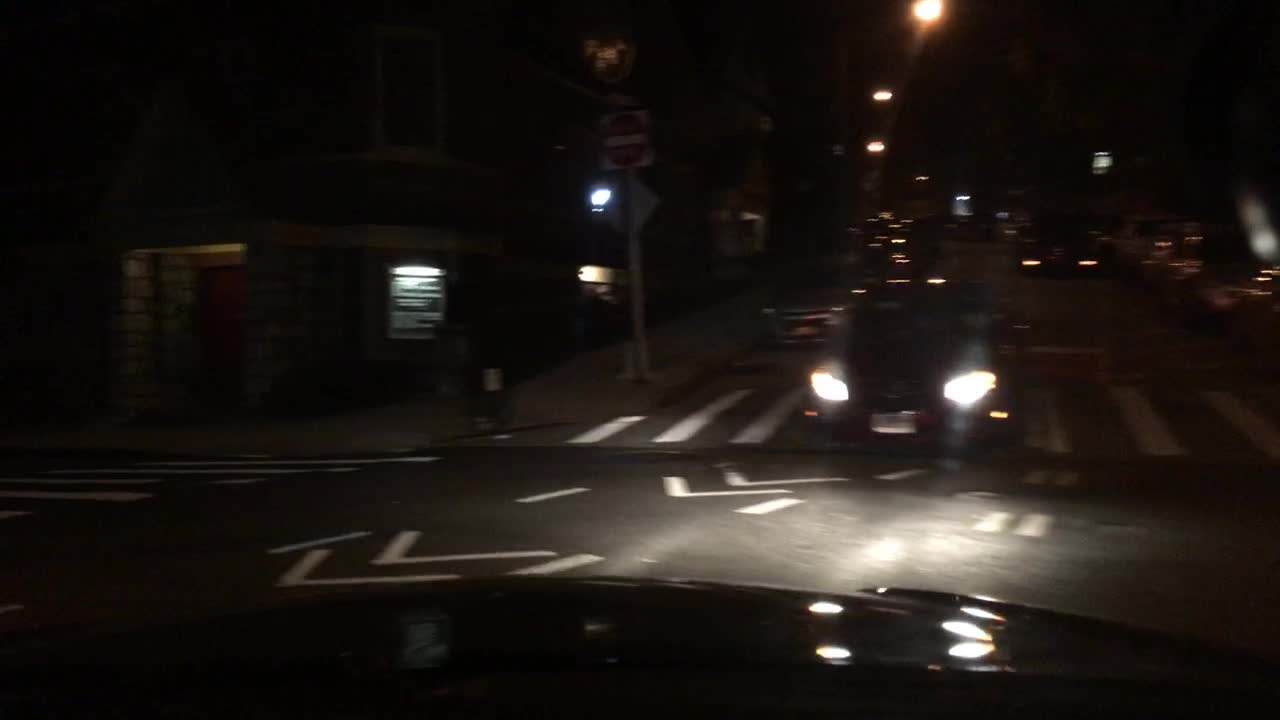car: (798, 272, 1020, 447), (766, 236, 911, 347), (1188, 221, 1279, 354), (1014, 215, 1107, 278), (1141, 220, 1219, 283), (1105, 206, 1177, 263), (866, 215, 940, 269), (908, 210, 947, 255)
traffic sign: (600, 175, 660, 240), (598, 108, 652, 169)
